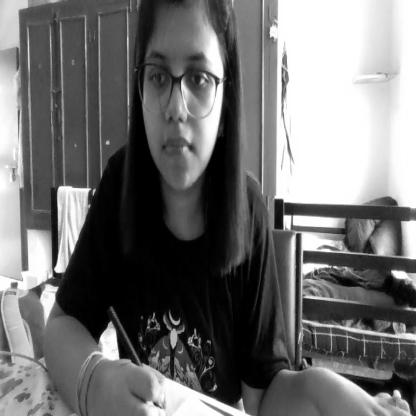Normal: (138, 0, 230, 198)
